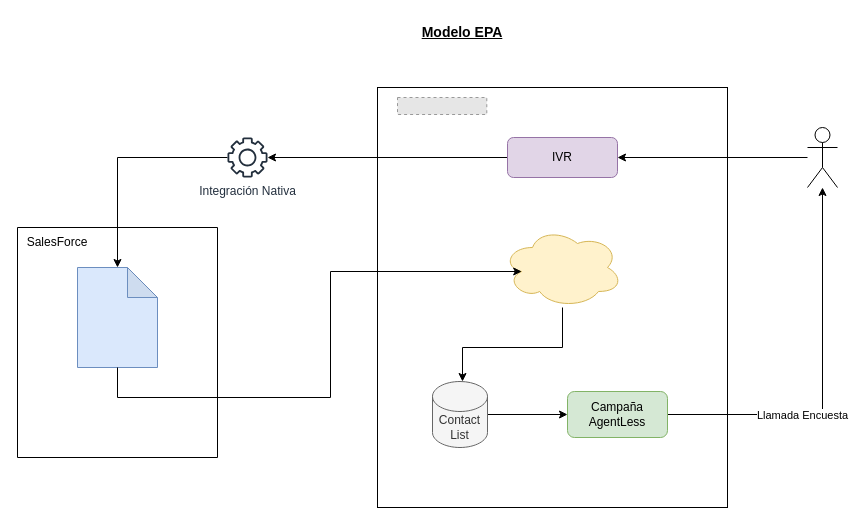
Some shapes in this 865 by 525 pixel diagram are drawn without their labels. Grey dashed boxes stand in for pictures. Each missing label, with the centre of its shape:
Apex Termino Llamada: the point at 117,317
API Genesys: the point at 562,267
